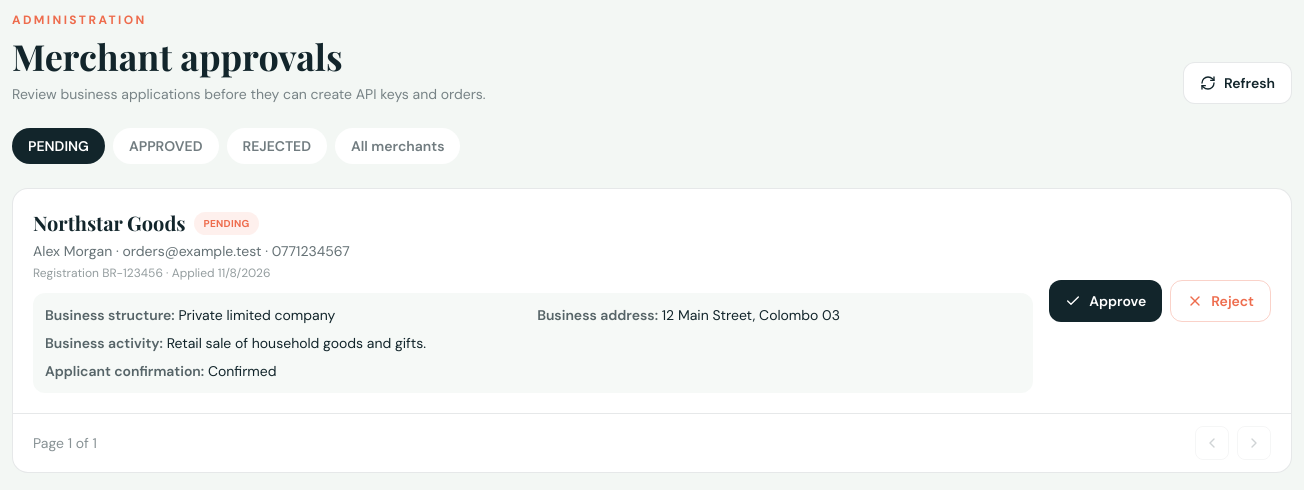
MerchantApprovalsPage › removes a reviewed merchant from the pending filter
The image size is (1304, 490).
Expected: the heading "Northstar Goods" is shown, x1=33 y1=209 x2=186 y2=237
Click the button "Approve" at (1106, 301), box x1=1049 y1=280 x2=1162 y2=322
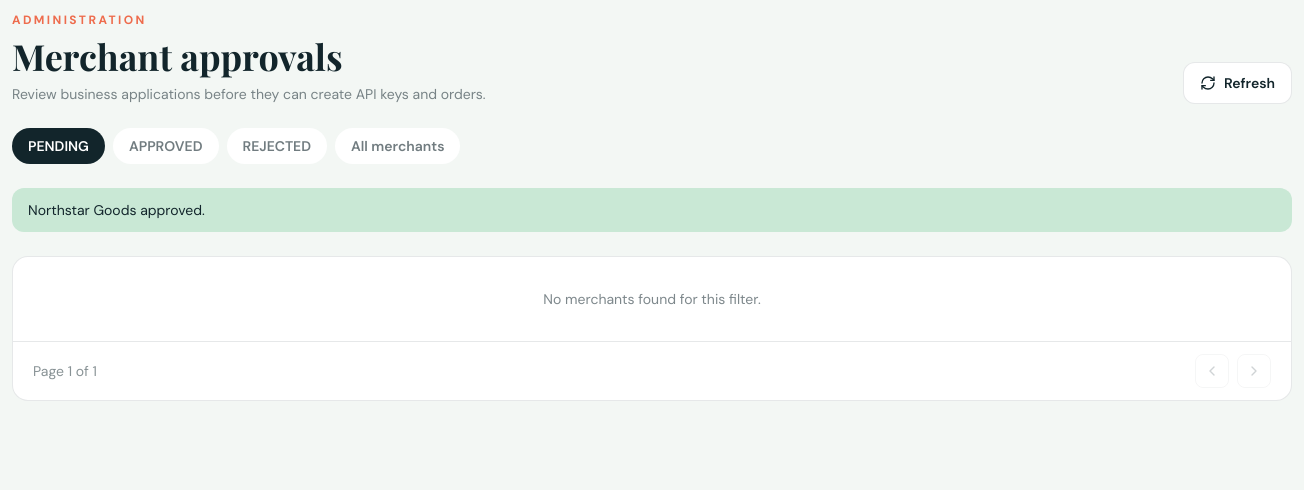
Now the message reads "Northstar Goods approved.", box x1=28 y1=201 x2=205 y2=219
Now the text "No merchants found for this filter." is shown, box x1=543 y1=290 x2=761 y2=308
